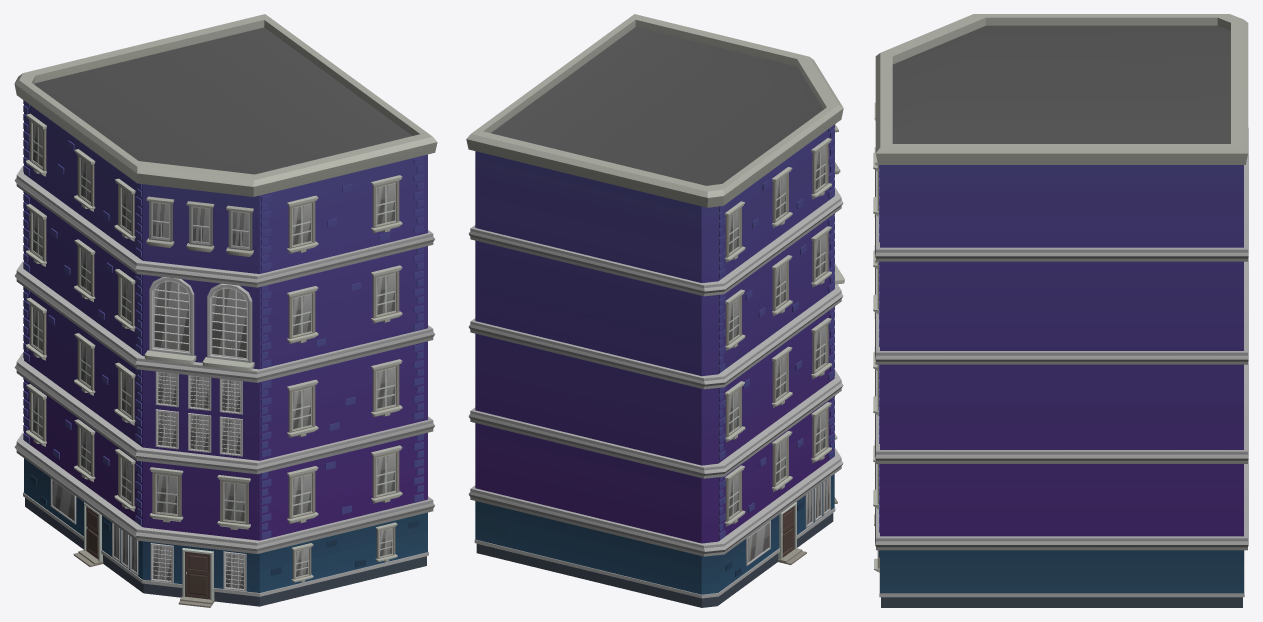
The model's file is Building_25_1_E.fbx.
The picture shows the model from 3 angles, left to right: view 1: azimuth 30°, elevation 25°; view 2: azimuth 150°, elevation 25°; view 3: azimuth 270°, elevation 25°; orthographic projection. The views are drawn at different scales.
Visible parts, largest first — view 1: Building_25_1_E; view 2: Building_25_1_E; view 3: Building_25_1_E.
Boxes of the visible parts, <box> form: Building_25_1_E: <box>14,14,437,607</box>; Building_25_1_E: <box>466,14,844,607</box>; Building_25_1_E: <box>873,14,1248,607</box>.
Bounding box in the file's own units: 1291 × 2014 × 1479.
